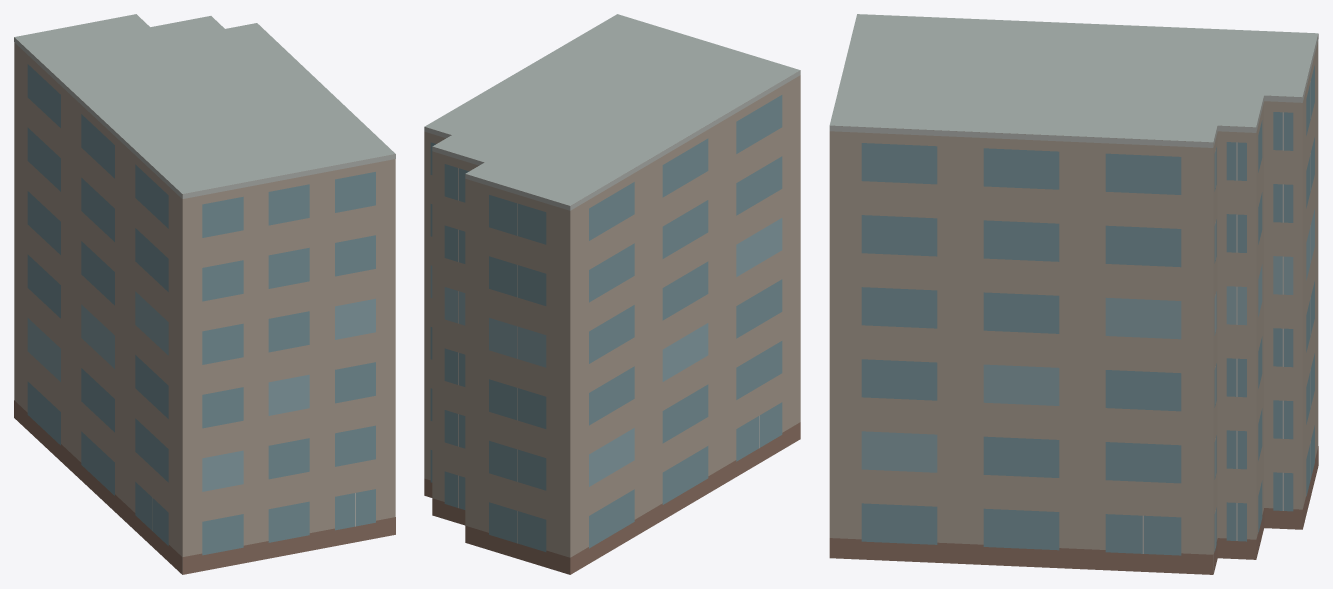
The model's file is survey-upis-32679557.glb.
3 renders of one model, left to right at view 1: azimuth 30°, elevation 25°; view 2: azimuth 150°, elevation 25°; view 3: azimuth 270°, elevation 25°, orthographic. The views are drawn at different scales.
Visible parts, largest first — view 1: survey-upis-32679557.tmp; view 2: survey-upis-32679557.tmp; view 3: survey-upis-32679557.tmp.
Part boxes in pixels (x1,y1,x2,y2): survey-upis-32679557.tmp: (14, 14, 395, 574); survey-upis-32679557.tmp: (424, 14, 800, 574); survey-upis-32679557.tmp: (829, 14, 1318, 574).
Size of the model in its own units: 11.75 by 18.45 by 18.91.
